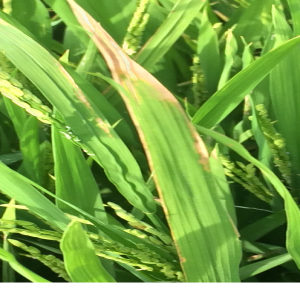Bacterial_Blight: (126, 61, 208, 272)
